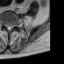CCS_normal: (8, 23, 10, 33)
LFS_stenosis: (13, 22, 15, 29)
LLS_normal: (10, 23, 13, 30)
RFS_normal: (3, 22, 6, 28)
RLS_normal: (6, 23, 8, 30)
